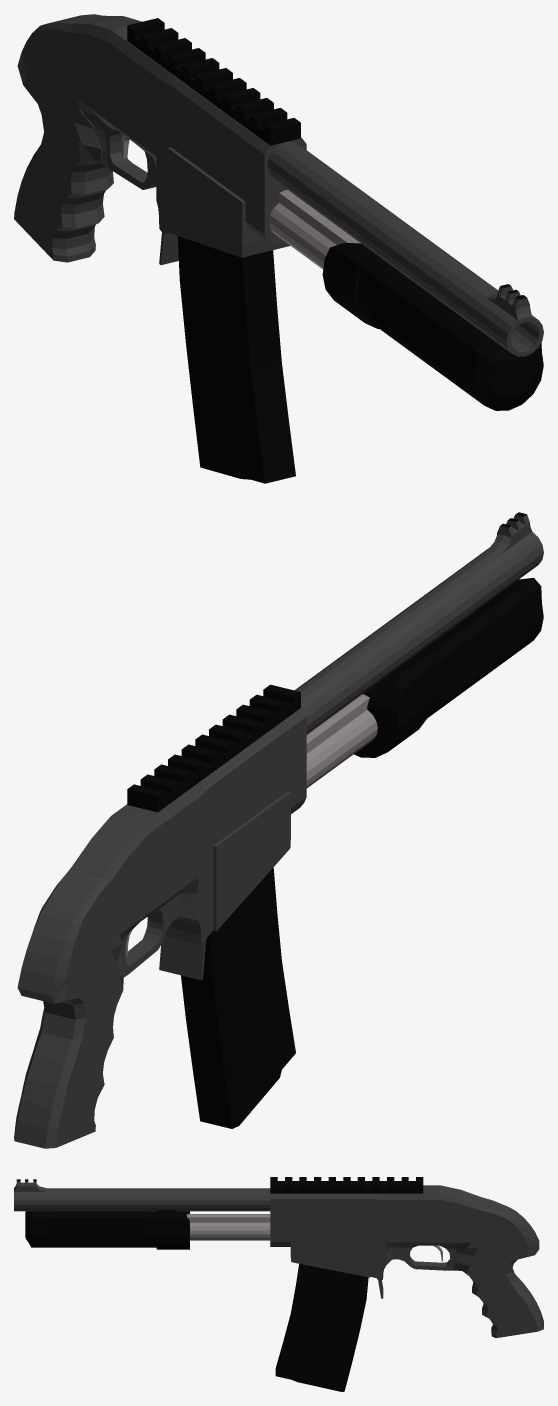
Rendered from Aral AR35 & Magazine.fbx.
3 renders of one model, top to bottom at view 1: azimuth 30°, elevation 25°; view 2: azimuth 150°, elevation 25°; view 3: azimuth 270°, elevation 25°, orthographic. The views are drawn at different scales.
Parts seen in each view (by area): view 1: Aral AR35, Aral AR35 & Magazine; view 2: Aral AR35, Aral AR35 & Magazine; view 3: Aral AR35, Aral AR35 & Magazine.
Part boxes in pixels (left/top/right/bottom): Aral AR35: left=14, top=14, right=543, bottom=410; Aral AR35 & Magazine: left=177, top=236, right=295, bottom=483; Aral AR35: left=14, top=512, right=543, bottom=1148; Aral AR35 & Magazine: left=181, top=867, right=295, bottom=1128; Aral AR35: left=14, top=1177, right=543, bottom=1338; Aral AR35 & Magazine: left=275, top=1264, right=368, bottom=1391.
Bounding box in the file's own units: 0.0498 × 0.2418 × 0.5604.
